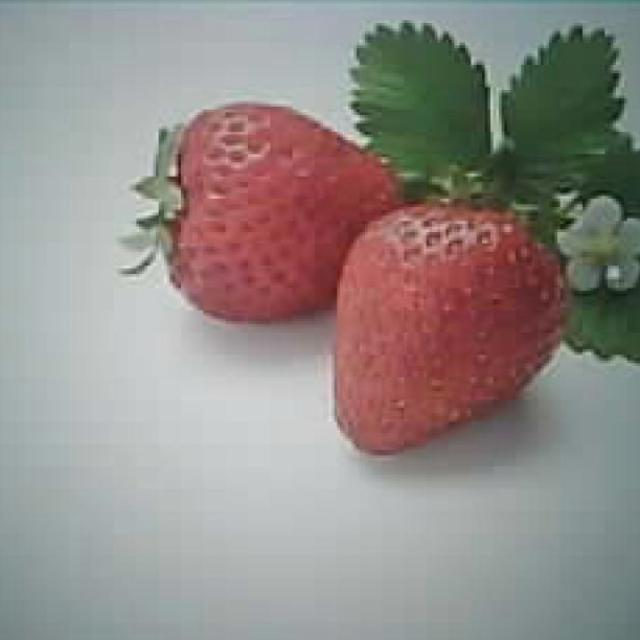Healthy Fruit: (124, 104, 408, 327), (334, 200, 571, 460)
